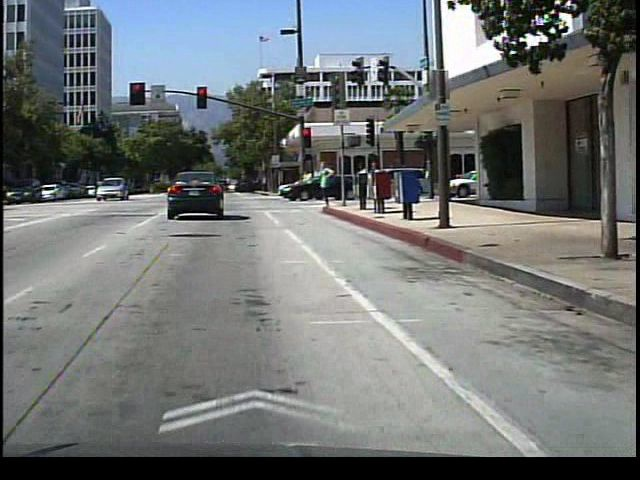person: (316, 153, 340, 213), (368, 156, 387, 204), (357, 158, 374, 202)
